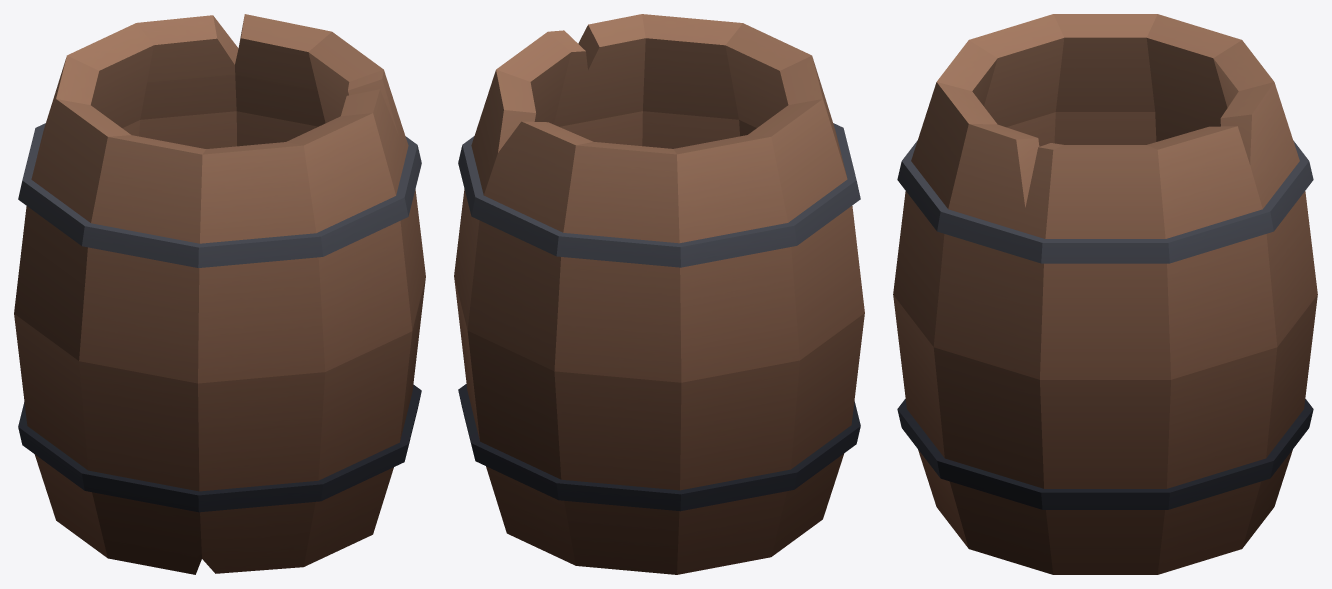
File: beczka4.fbx
3 renders of one model, left to right at view 1: azimuth 30°, elevation 25°; view 2: azimuth 150°, elevation 25°; view 3: azimuth 270°, elevation 25°, orthographic.
Parts seen in each view (by area): view 1: beczka4; view 2: beczka4; view 3: beczka4.
Boxes of the visible parts, x1,y1,x2,y2 form: beczka4: (14, 14, 425, 574); beczka4: (454, 14, 864, 574); beczka4: (893, 14, 1317, 574).
Bounding box in the file's own units: 239 × 278 × 251.
